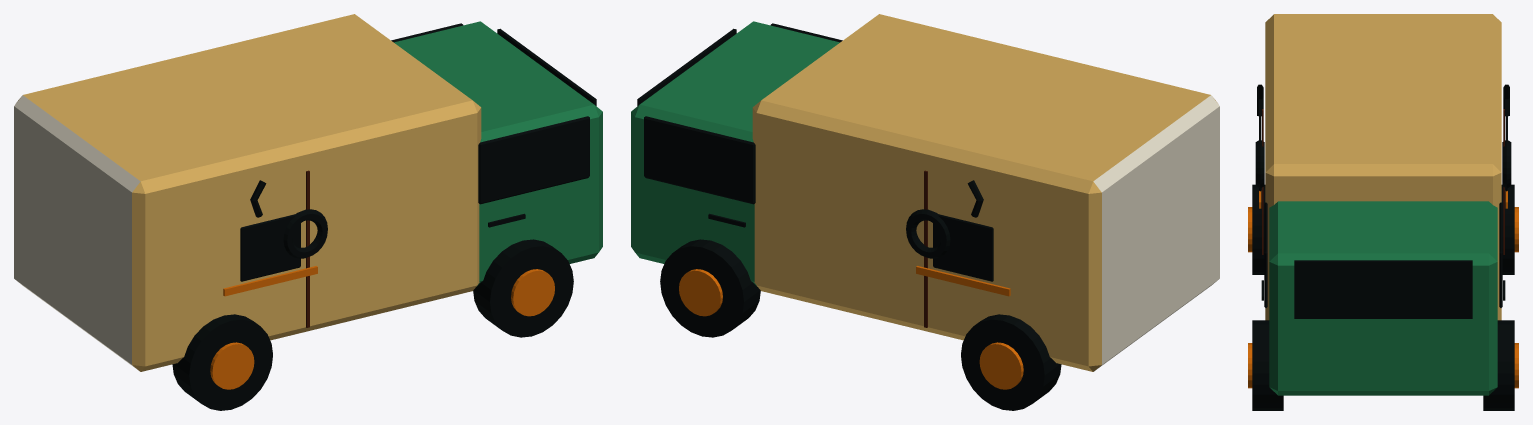
The model's file is delivery_van.fbx.
3 views of the same model, side by side, from view 1: azimuth 30°, elevation 25°; view 2: azimuth 150°, elevation 25°; view 3: azimuth 270°, elevation 25° (orthographic). The views are drawn at different scales.
Visible parts, largest first — view 1: Part_-1, Part_4, Part_1, Part_0, Part_5, Part_6, Part_7; view 2: Part_-1, Part_4, Part_2, Part_3, Part_5, Part_6, Part_7; view 3: Part_4, Part_-1, Part_6, Part_7, Part_2, Part_0, Part_1, Part_3.
Boxes of the visible parts, <box> form: Part_-1: <box>16,14,480,371</box>; Part_4: <box>391,21,602,325</box>; Part_1: <box>146,105,592,369</box>; Part_0: <box>145,170,476,366</box>; Part_5: <box>14,95,140,371</box>; Part_6: <box>141,288,466,410</box>; Part_7: <box>473,239,598,337</box>; Part_-1: <box>753,14,1217,371</box>; Part_4: <box>631,21,842,330</box>; Part_2: <box>757,113,1088,365</box>; Part_3: <box>636,108,1087,366</box>; Part_5: <box>1093,95,1219,371</box>; Part_6: <box>771,293,1092,410</box>; Part_7: <box>635,242,760,337</box>; Part_4: <box>1248,176,1518,395</box>; Part_-1: <box>1265,14,1501,176</box>; Part_6: <box>1248,184,1518,274</box>; Part_7: <box>1252,327,1514,410</box>; Part_2: <box>1501,84,1514,254</box>; Part_0: <box>1252,84,1265,254</box>; Part_1: <box>1255,172,1277,324</box>; Part_3: <box>1490,172,1512,322</box>.
Size of the model in its own units: 5.65 by 2.71 by 3.01.
